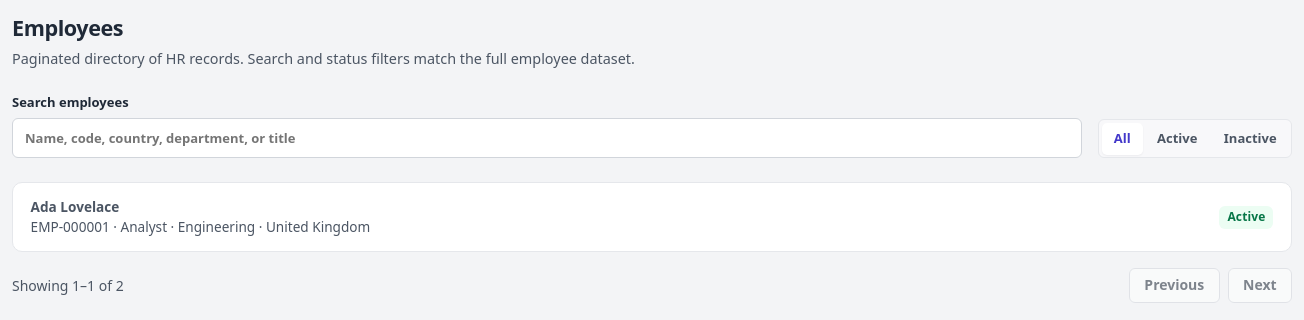
Test: selecting ACTIVE requests status=ACTIVE
Check: the text "Ada Lovelace" is shown, box [31,197,119,216]
Click the button "Active" at (1177, 139), box [1145,123,1209,155]
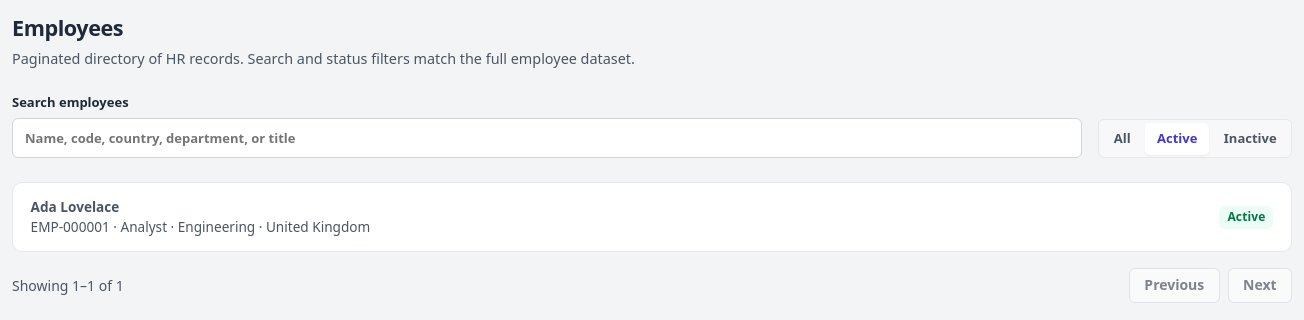
Check: the text "Showing 1–1 of 1" is shown, box [12,275,124,296]
